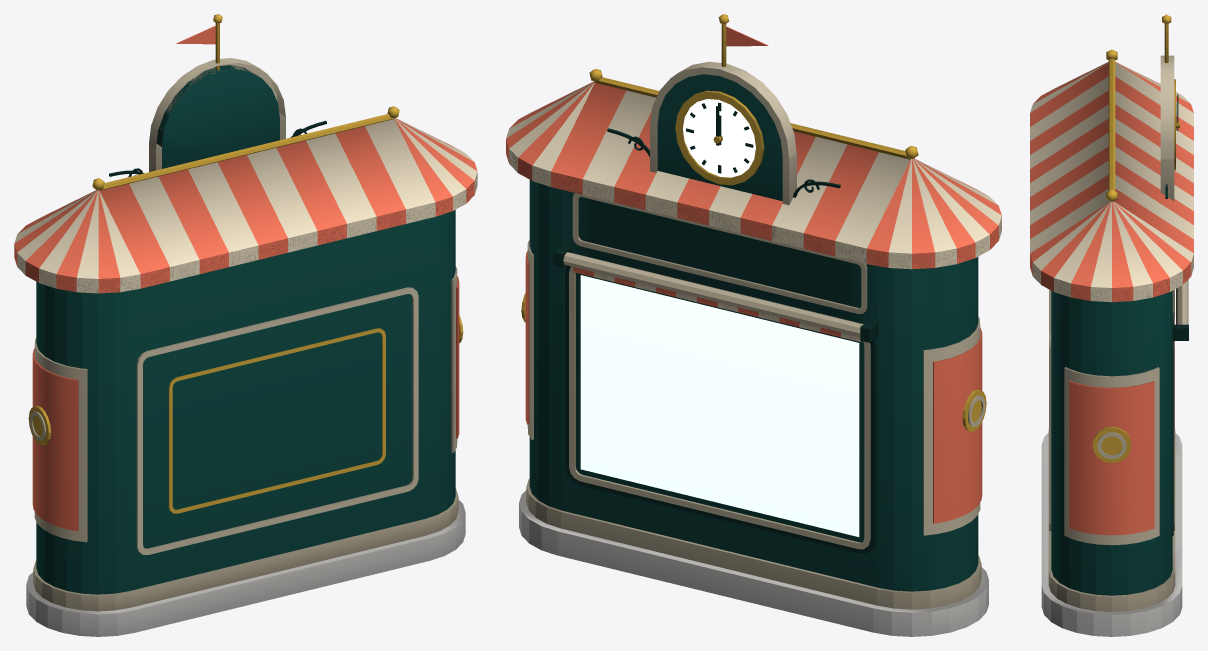
File: pav_online.glb
The picture shows the model from 3 angles, left to right: view 1: azimuth 30°, elevation 25°; view 2: azimuth 150°, elevation 25°; view 3: azimuth 270°, elevation 25°; orthographic projection. The views are drawn at different scales.
Visible parts, largest first — view 1: static_online; view 2: static_online, live_board_online; view 3: static_online.
Boxes of the visible parts, x1,y1,x2,y2 form: static_online: [14, 14, 477, 636]; static_online: [506, 14, 1001, 636]; live_board_online: [580, 275, 859, 536]; static_online: [1030, 14, 1193, 636].
Bounding box in the file's own units: 5.08 × 5.91 × 1.68.
